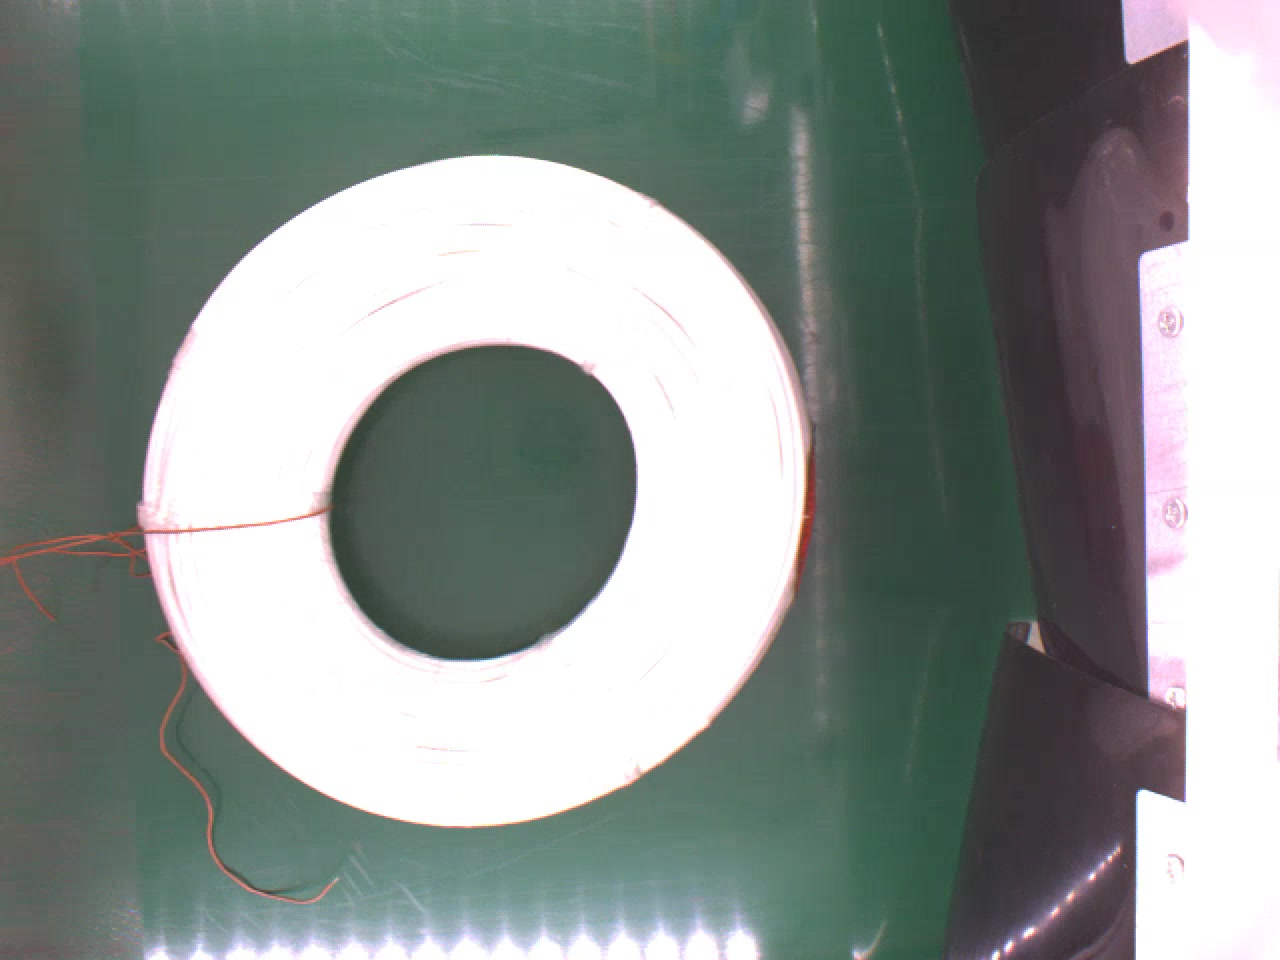white: (139, 149, 817, 820)
